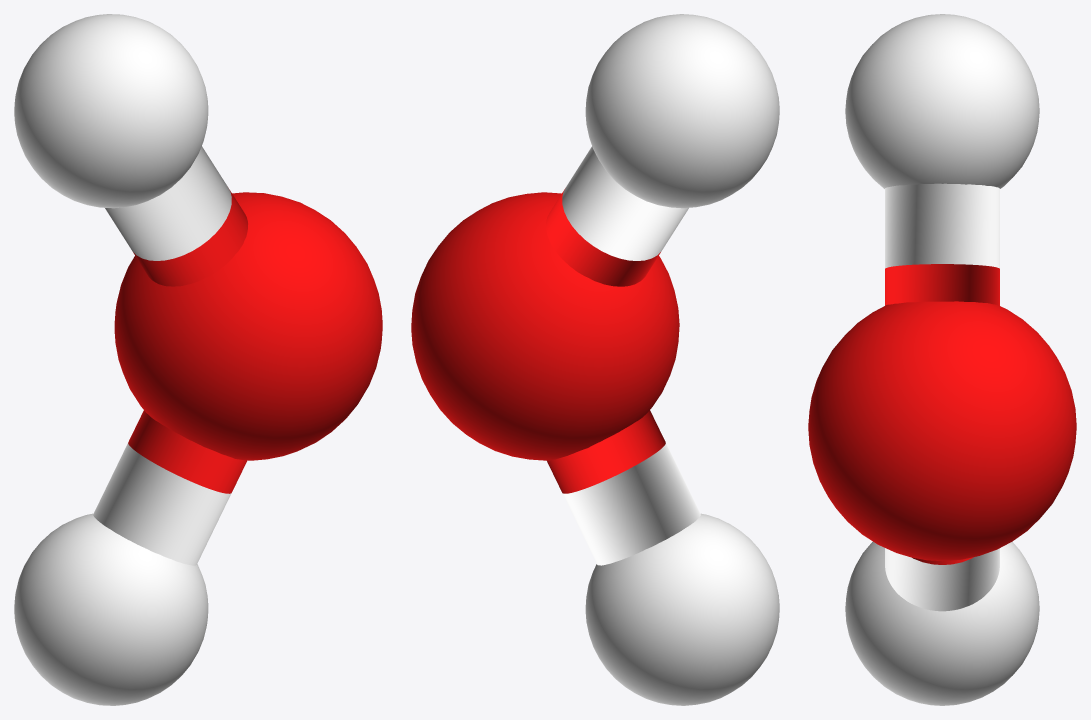
3 views of the same model, side by side, from view 1: azimuth 30°, elevation 25°; view 2: azimuth 150°, elevation 25°; view 3: azimuth 270°, elevation 25° (orthographic).
Visible parts, largest first — view 1: O2_Atom, H1_Atom, H3_Atom, Cylinder2, Cylinder4, Cylinder1, Cylinder3; view 2: O2_Atom, H1_Atom, H3_Atom, Cylinder2, Cylinder4, Cylinder1, Cylinder3; view 3: O2_Atom, H1_Atom, H3_Atom, Cylinder4, Cylinder2, Cylinder3.
Part boxes in pixels (x1=…): O2_Atom: x1=114, y1=192, x2=382, y2=460; H1_Atom: x1=14, y1=14, x2=208, y2=208; H3_Atom: x1=14, y1=513, x2=208, y2=705; Cylinder2: x1=93, y1=443, x2=231, y2=565; Cylinder4: x1=105, y1=146, x2=231, y2=260; Cylinder1: x1=128, y1=410, x2=247, y2=493; Cylinder3: x1=133, y1=189, x2=247, y2=286; O2_Atom: x1=411, y1=192, x2=679, y2=460; H1_Atom: x1=585, y1=14, x2=779, y2=208; H3_Atom: x1=585, y1=513, x2=779, y2=705; Cylinder2: x1=562, y1=443, x2=700, y2=565; Cylinder4: x1=562, y1=146, x2=688, y2=260; Cylinder1: x1=547, y1=410, x2=665, y2=493; Cylinder3: x1=546, y1=189, x2=660, y2=286; O2_Atom: x1=808, y1=301, x2=1076, y2=561; H1_Atom: x1=845, y1=14, x2=1039, y2=188; H3_Atom: x1=845, y1=541, x2=1039, y2=705; Cylinder4: x1=885, y1=183, x2=999, y2=268; Cylinder2: x1=885, y1=548, x2=999, y2=611; Cylinder3: x1=885, y1=264, x2=999, y2=305.
Size of the model in its own units: 1.01 by 1.93 by 0.699.
